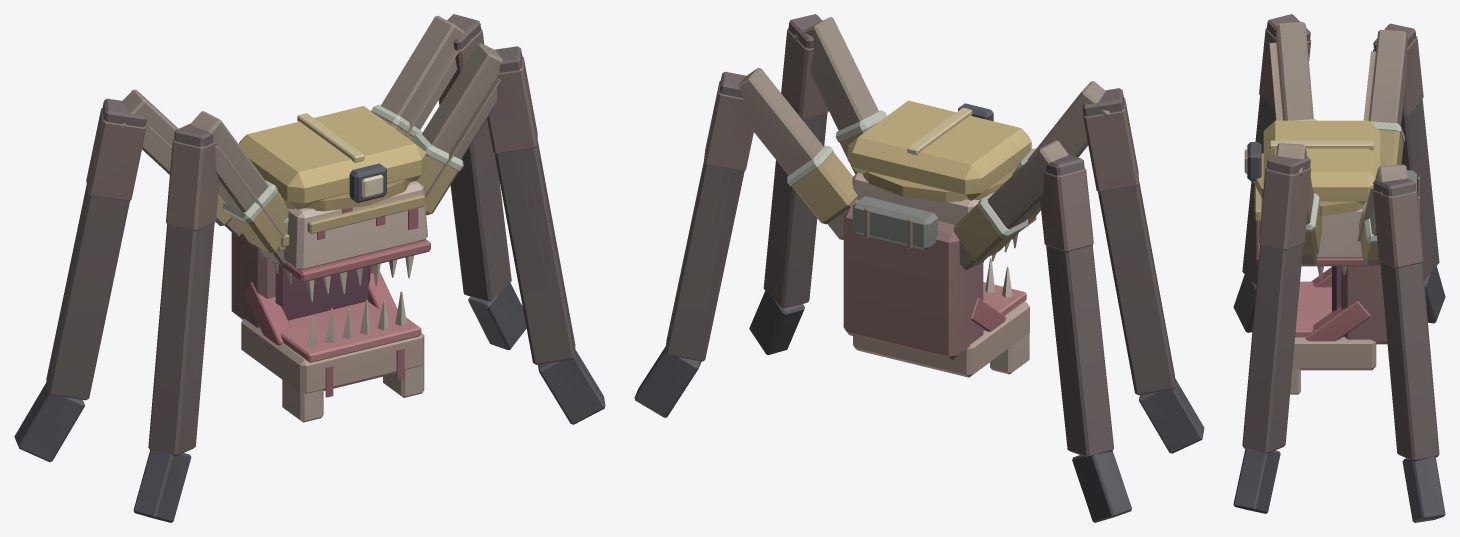
Rendered from PrimitiveSummonerMiner.glb.
The picture shows the model from 3 angles, left to right: view 1: azimuth 30°, elevation 25°; view 2: azimuth 150°, elevation 25°; view 3: azimuth 270°, elevation 25°; orthographic projection. The views are drawn at different scales.
Visible parts, largest first — view 1: Body, ArmR, ArmL, LegR, LegL, Head; view 2: Body, LegR, LegL, ArmR, ArmL, Head; view 3: ArmL, LegL, Body, LegR, ArmR, Head.
Boxes of the visible parts, x1,y1,x2,y2 form: Body: [231, 106, 430, 327]; ArmR: [133, 111, 288, 522]; ArmL: [412, 43, 605, 424]; LegR: [14, 89, 242, 462]; LegL: [371, 14, 526, 349]; Head: [241, 271, 424, 422]; Body: [843, 100, 1036, 359]; LegR: [953, 140, 1131, 522]; LegL: [634, 68, 858, 417]; ArmR: [1012, 81, 1204, 453]; ArmL: [749, 14, 886, 354]; Head: [853, 258, 1029, 377]; ArmL: [1233, 143, 1321, 513]; LegL: [1357, 164, 1445, 522]; Body: [1244, 120, 1419, 344]; LegR: [1363, 23, 1445, 323]; ArmR: [1233, 14, 1316, 332]; Head: [1290, 267, 1376, 394].
Bounding box in the file's own units: 10.01 × 6.99 × 3.98.
